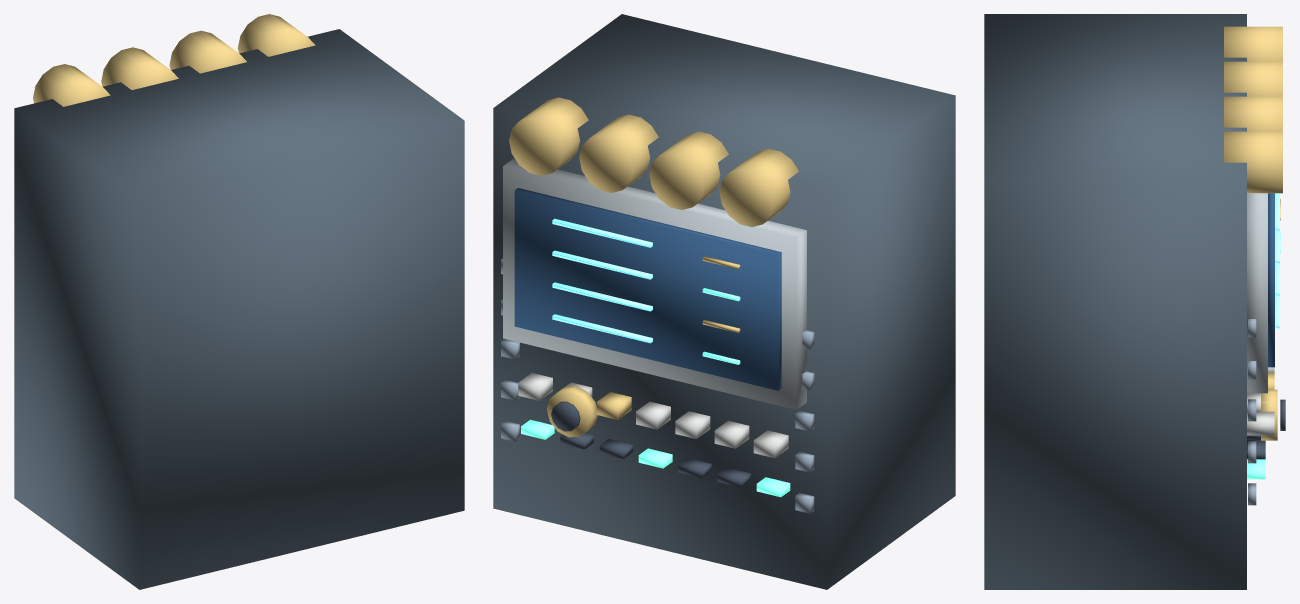
Rendered from L84_35_GyroscopeCalibrationStation_Fitted.fbx.
The picture shows the model from 3 angles, left to right: view 1: azimuth 30°, elevation 25°; view 2: azimuth 150°, elevation 25°; view 3: azimuth 270°, elevation 25°; orthographic projection. The views are drawn at different scales.
Visible parts, largest first — view 1: L84_GyroscopeCalibrationStation_Static__tint1C2933, L84_GyroscopeCalibrationStation_Static__tintF2B547; view 2: L84_GyroscopeCalibrationStation_Static__tint1C2933, L84_GyroscopeCalibrationStation_Static__tint0B214A, L84_GyroscopeCalibrationStation_Static__tintF2B547, L84_GyroscopeCalibrationStation_Static__tint91A3AD, L84_GyroscopeCalibrationStation_Static__tintCCD4CF, L84_GyroscopeCalibrationStation_Static__tint38CCFC, L84_GyroscopeCalibrationStation_Static__tint59738F, L84_GyroscopeCalibrationStation_Static__tint131B26, L84_GyroscopeCalibrationStation_Static__tint2BF0A8; view 3: L84_GyroscopeCalibrationStation_Static__tint1C2933, L84_GyroscopeCalibrationStation_Static__tintF2B547, L84_GyroscopeCalibrationStation_Static__tint91A3AD, L84_GyroscopeCalibrationStation_Static__tint0B214A, L84_GyroscopeCalibrationStation_Static__tint59738F, L84_GyroscopeCalibrationStation_Static__tintCCD4CF, L84_GyroscopeCalibrationStation_Static__tint38CCFC, L84_GyroscopeCalibrationStation_Static__tint131B26.
Boxes of the visible parts, box(x1,y1,x2,y2) form: L84_GyroscopeCalibrationStation_Static__tint1C2933: box(14, 29, 464, 589); L84_GyroscopeCalibrationStation_Static__tintF2B547: box(33, 14, 315, 106); L84_GyroscopeCalibrationStation_Static__tint1C2933: box(493, 14, 955, 589); L84_GyroscopeCalibrationStation_Static__tint0B214A: box(514, 188, 781, 390); L84_GyroscopeCalibrationStation_Static__tintF2B547: box(509, 97, 798, 437); L84_GyroscopeCalibrationStation_Static__tint91A3AD: box(503, 158, 806, 409); L84_GyroscopeCalibrationStation_Static__tintCCD4CF: box(518, 373, 788, 458); L84_GyroscopeCalibrationStation_Static__tint38CCFC: box(552, 218, 652, 343); L84_GyroscopeCalibrationStation_Static__tint59738F: box(501, 258, 814, 513); L84_GyroscopeCalibrationStation_Static__tint131B26: box(551, 401, 750, 487); L84_GyroscopeCalibrationStation_Static__tint2BF0A8: box(521, 288, 790, 497); L84_GyroscopeCalibrationStation_Static__tint1C2933: box(984, 14, 1246, 589); L84_GyroscopeCalibrationStation_Static__tintF2B547: box(1224, 26, 1282, 440); L84_GyroscopeCalibrationStation_Static__tint91A3AD: box(1247, 193, 1267, 393); L84_GyroscopeCalibrationStation_Static__tint0B214A: box(1268, 193, 1274, 367); L84_GyroscopeCalibrationStation_Static__tint59738F: box(1248, 319, 1256, 505); L84_GyroscopeCalibrationStation_Static__tintCCD4CF: box(1247, 367, 1274, 435); L84_GyroscopeCalibrationStation_Static__tint38CCFC: box(1275, 193, 1279, 328); L84_GyroscopeCalibrationStation_Static__tint131B26: box(1247, 399, 1285, 459).
Bounding box in the file's own units: 9.6 × 11.44 × 7.35.
